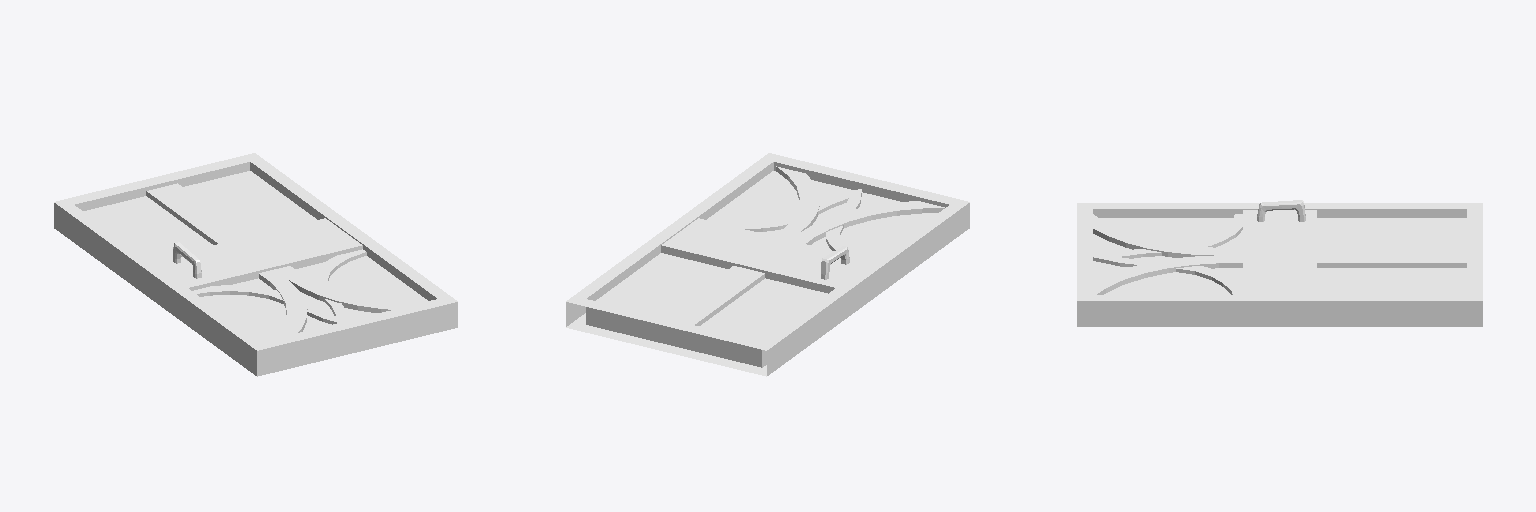
The model's file is tdr_d_door.obj.
The picture shows the model from 3 angles: view 1: azimuth 30°, elevation 25°; view 2: azimuth 150°, elevation 25°; view 3: azimuth 270°, elevation 25°; orthographic projection.
Visible parts, largest first — view 1: studio.L11_Door_B01.mesh_0; view 2: studio.L11_Door_B01.mesh_0; view 3: studio.L11_Door_B01.mesh_0.
Boxes of the visible parts, box(x1,y1,x2,y2) form: studio.L11_Door_B01.mesh_0: box(54, 153, 457, 376); studio.L11_Door_B01.mesh_0: box(566, 153, 969, 376); studio.L11_Door_B01.mesh_0: box(1077, 200, 1482, 326).
Bounding box in the file's own units: 512 × 106 × 896.